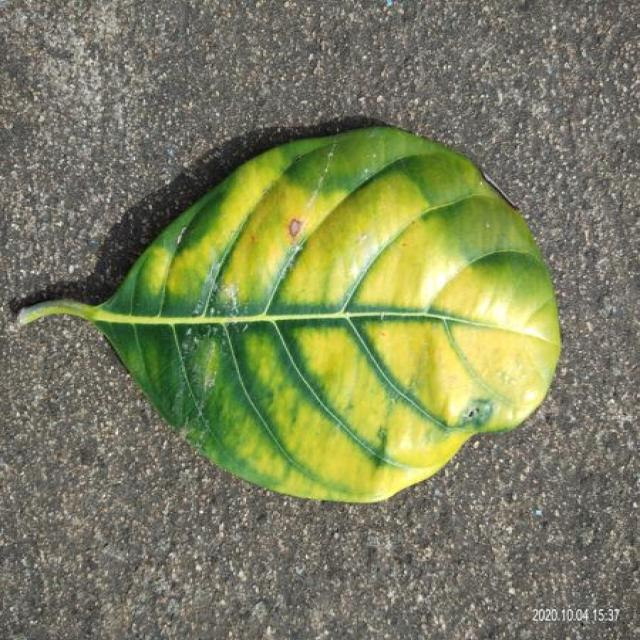Jackfruit: (20, 128, 560, 502)
